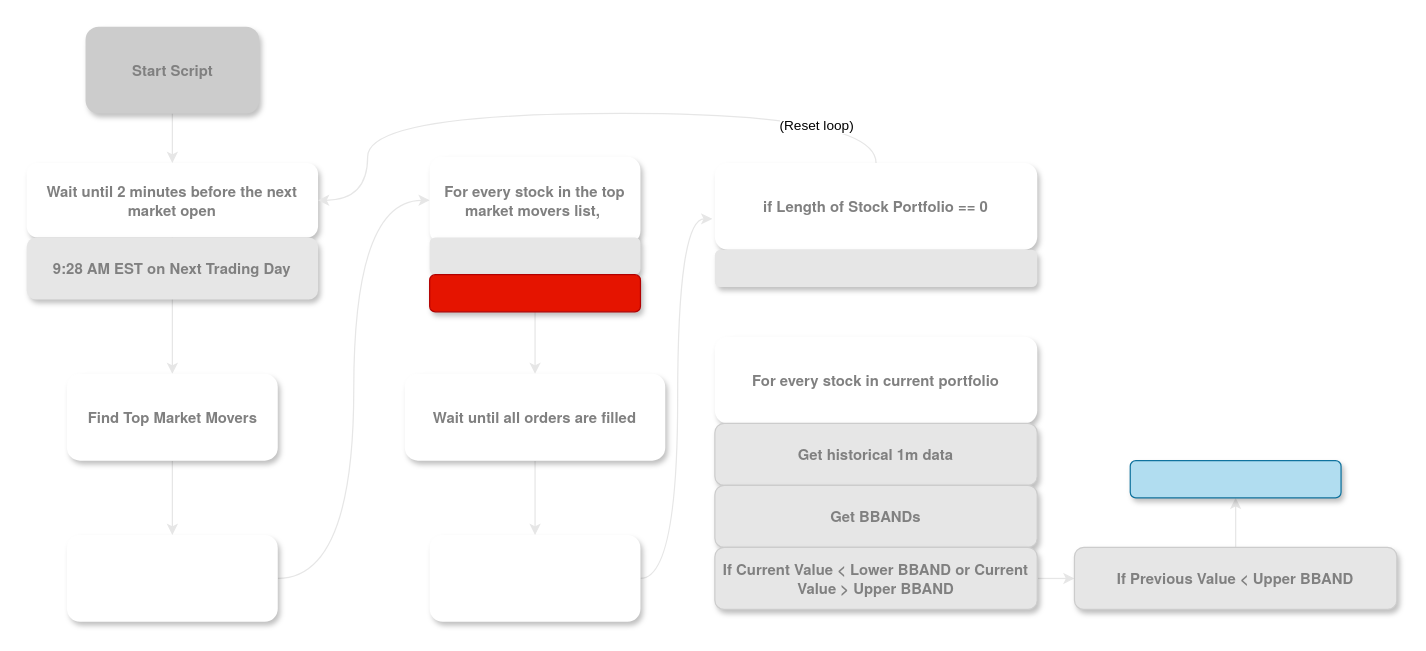
This 1426x651 diagram has some shape labels left out. The centre of each missing label's shape, as x and y in pixels:
"Buy Stock" belongs at (x=1236, y=480).
"else" belongs at (x=876, y=269).
"If Shortable:" belongs at (x=535, y=257).
"Short Sell Stock" belongs at (x=535, y=294).
"Wait to Market Open - 2m" belongs at (x=173, y=579).
"While True" belongs at (x=535, y=579).
